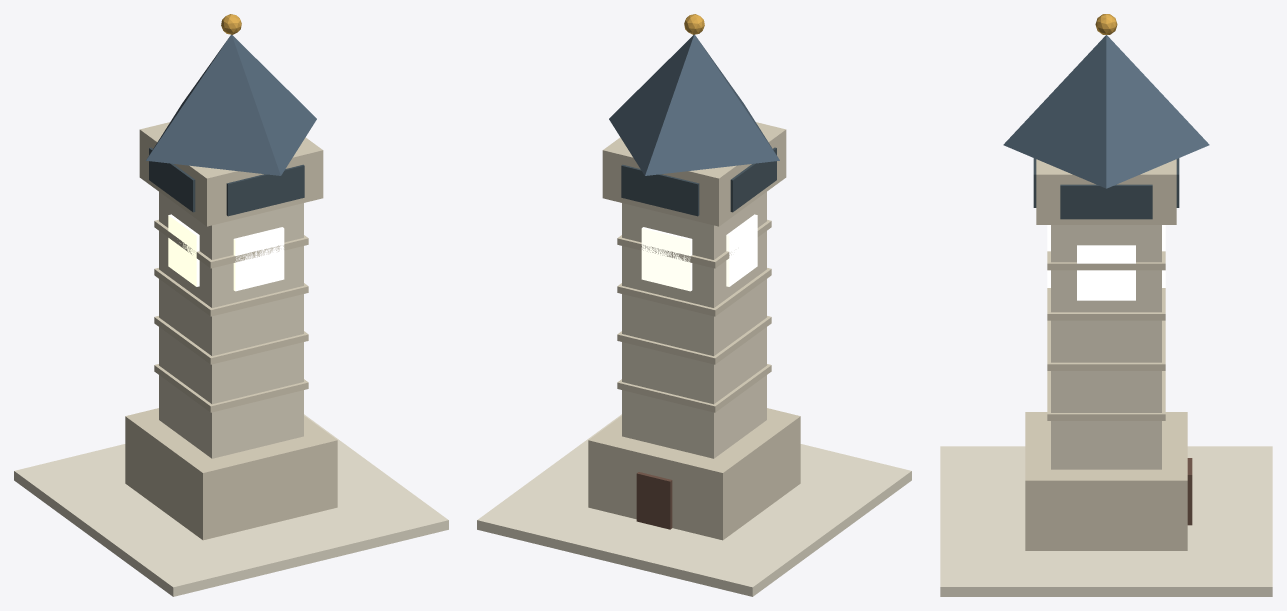
File: clockTower.glb
3 views of the same model, side by side, from view 1: azimuth 30°, elevation 25°; view 2: azimuth 150°, elevation 25°; view 3: azimuth 270°, elevation 25° (orthographic). The views are drawn at different scales.
Parts seen in each view (by area): view 1: clockTower; view 2: clockTower; view 3: clockTower.
Boxes of the visible parts, box(x1,y1,x2,y2) form: clockTower: box(14, 14, 448, 596); clockTower: box(477, 14, 911, 596); clockTower: box(940, 14, 1272, 596).
Size of the model in its own units: 1.8 by 3.06 by 1.8.
